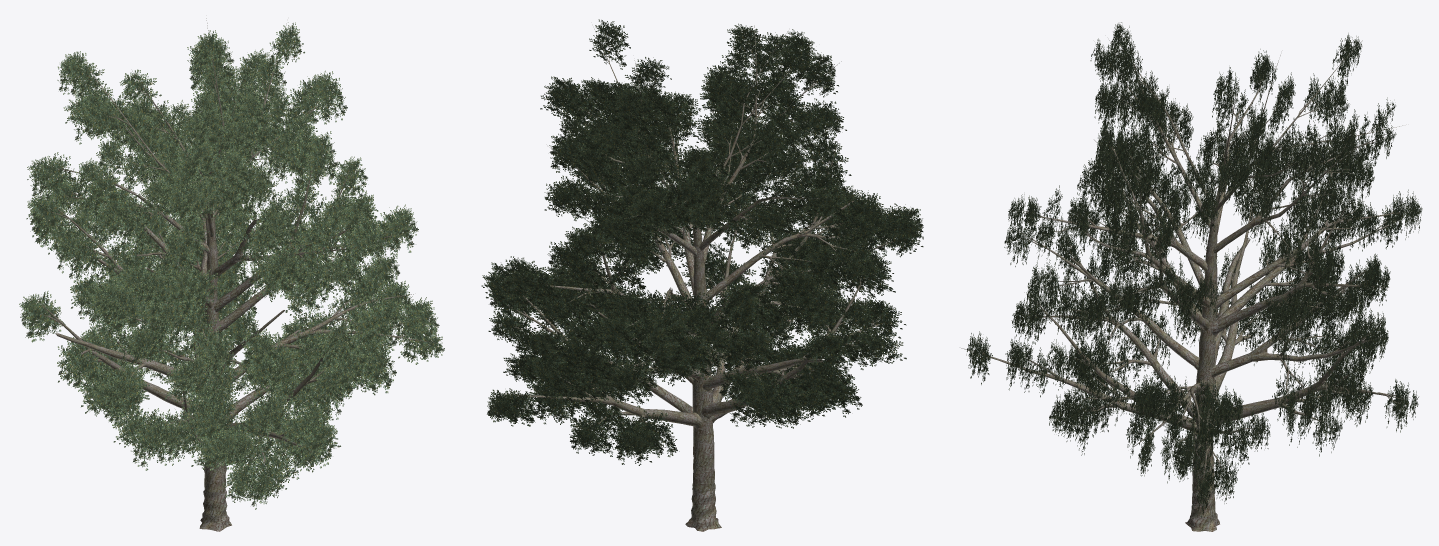
The model's file is Linden.fbx.
3 renders of one model, left to right at view 1: azimuth 30°, elevation 25°; view 2: azimuth 150°, elevation 25°; view 3: azimuth 270°, elevation 25°, orthographic. The views are drawn at different scales.
Parts seen in each view (by area): view 1: AlanTree; view 2: AlanTree; view 3: AlanTree.
Boxes of the visible parts, x1,y1,x2,y2 form: AlanTree: [19, 18, 444, 531]; AlanTree: [481, 19, 923, 531]; AlanTree: [961, 22, 1422, 531].
Size of the model in its own units: 19.91 by 19.79 by 23.22.
3 materials, 2 textured.
